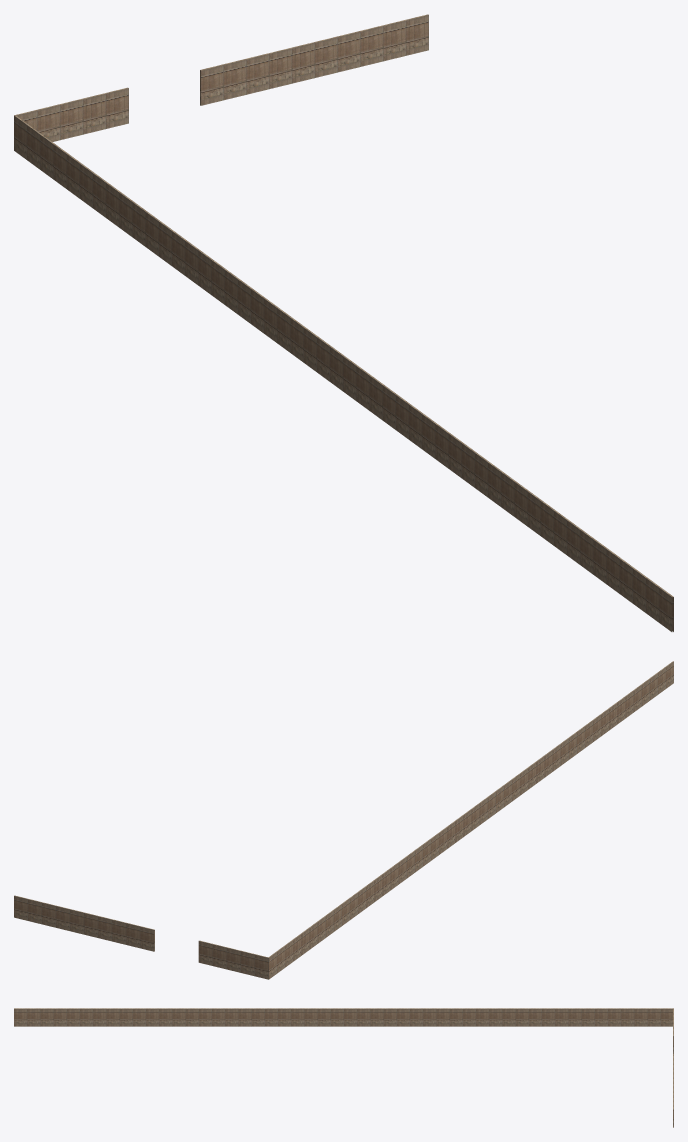
Rendered from circusconstruct08.obj.
The picture shows the model from 3 angles, top to bottom: view 1: azimuth 30°, elevation 25°; view 2: azimuth 150°, elevation 25°; view 3: azimuth 270°, elevation 25°; orthographic projection. The views are drawn at different scales.
Visible parts, largest first — view 1: circusconstruct08; view 2: circusconstruct08; view 3: circusconstruct08.
Part boxes in pixels (x1,y1,x2,y2): circusconstruct08: (14,14,673,631); circusconstruct08: (14,661,673,979); circusconstruct08: (14,1008,673,1127).
Bounding box in the file's own units: 29.73 × 2.43 × 81.87.
1 material, 1 textured.
